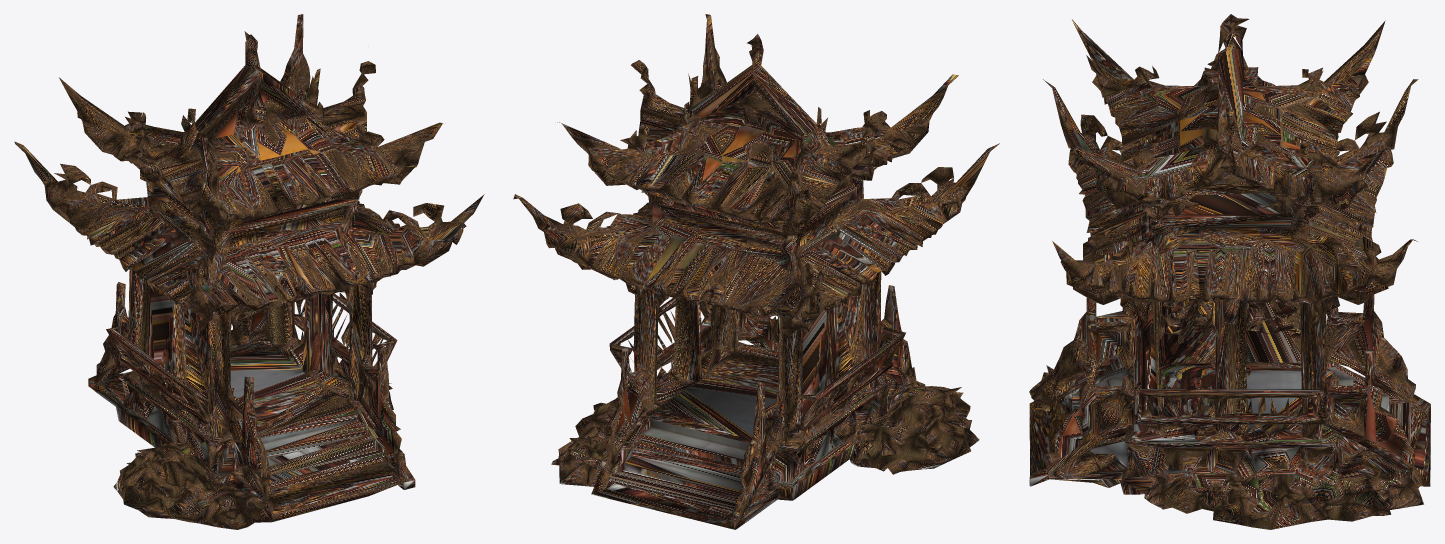
The model's file is bq_stage.lod.glb.
3 views of the same model, side by side, from view 1: azimuth 30°, elevation 25°; view 2: azimuth 150°, elevation 25°; view 3: azimuth 270°, elevation 25° (orthographic). The views are drawn at different scales.
Bounding box in the file's own units: 1.54 × 1.84 × 1.54.
1 material, 1 textured.
